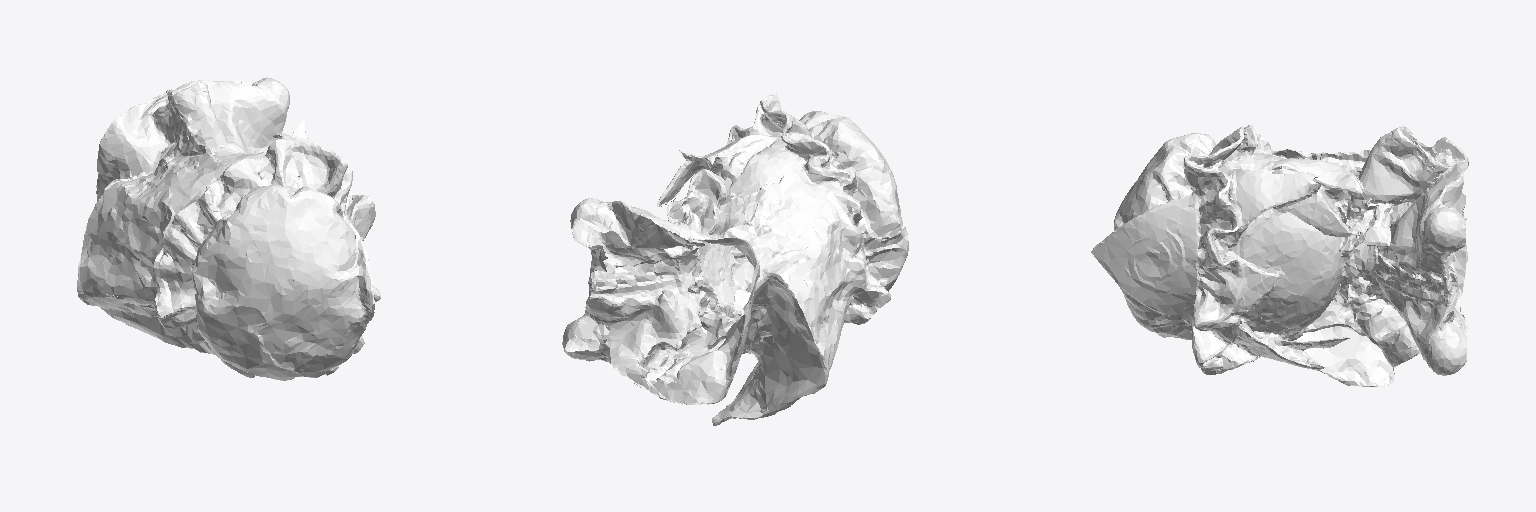
The model's file is UUfumo-OBJ-final-fix1.obj.
3 renders of one model, left to right at view 1: azimuth 30°, elevation 25°; view 2: azimuth 150°, elevation 25°; view 3: azimuth 270°, elevation 25°, orthographic.
Parts seen in each view (by area): view 1: Model.001; view 2: Model.001; view 3: Model.001.
Part boxes in pixels (bbox=[...]): Model.001: bbox=[77, 77, 380, 380]; Model.001: bbox=[562, 93, 908, 425]; Model.001: bbox=[1091, 125, 1468, 386].
Bounding box in the file's own units: 17.26 × 17.87 × 23.65.